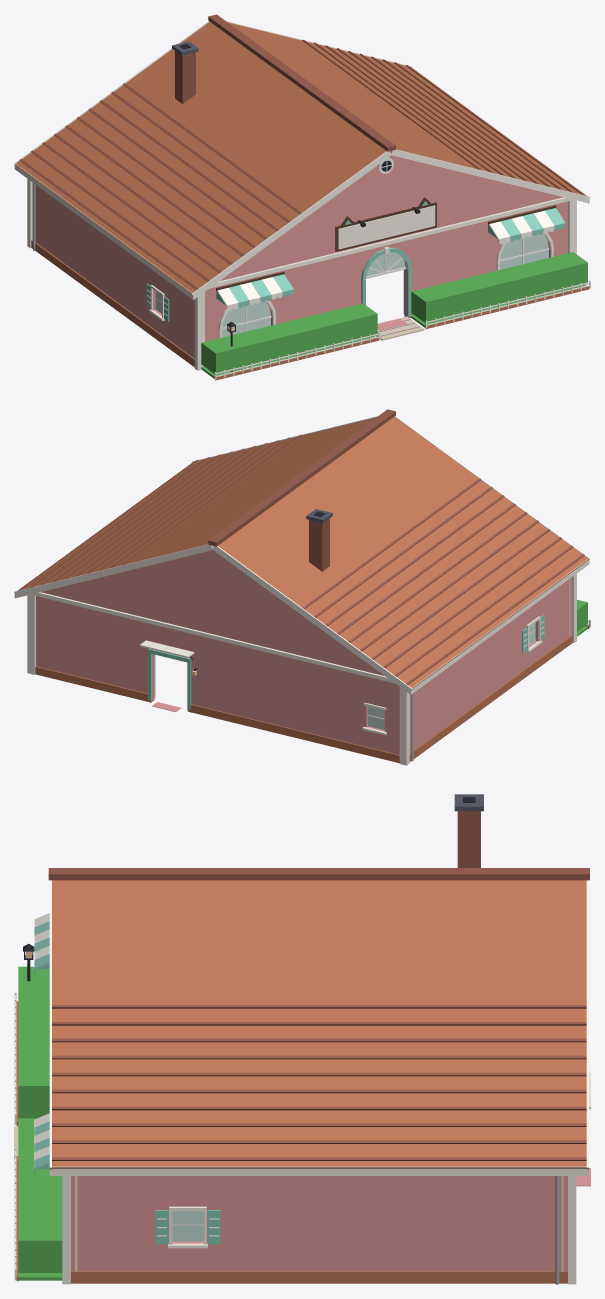
File: CatCafe_Plot_Cafe_Blush_60x46.glb
3 renders of one model, top to bottom at view 1: azimuth 30°, elevation 25°; view 2: azimuth 150°, elevation 25°; view 3: azimuth 270°, elevation 25°, orthographic. The views are drawn at different scales.
Parts seen in each view (by area): view 1: CatCafe_Plot_Cafe_Blush_60x46_Roof, CatCafe_Plot_Cafe_Blush_60x46_Paint, CatCafe_Plot_Cafe_Blush_60x46_Fireflies, CatCafe_Plot_Cafe_Blush_60x46_Trim, CatCafe_Plot_Cafe_Blush_60x46_Roof_Trim, CatCafe_Plot_Cafe_Blush_60x46_Awning, CatCafe_Plot_Cafe_Blush_60x46, CatCafe_Plot_Cafe_Blush_60x46_Glass, CatCafe_Plot_Cafe_Blush_60x46_Garden, CatCafe_Plot_Cafe_Blush_60x46_SignBoard, CatCafe_Plot_Cafe_Blush_60x46_Flowers, CatCafe_Plot_Cafe_Blush_60x46_Path; view 2: CatCafe_Plot_Cafe_Blush_60x46_Roof, CatCafe_Plot_Cafe_Blush_60x46_Paint, CatCafe_Plot_Cafe_Blush_60x46_Trim, CatCafe_Plot_Cafe_Blush_60x46_Roof_Trim, CatCafe_Plot_Cafe_Blush_60x46; view 3: CatCafe_Plot_Cafe_Blush_60x46_Roof, CatCafe_Plot_Cafe_Blush_60x46_Paint, CatCafe_Plot_Cafe_Blush_60x46_Fireflies, CatCafe_Plot_Cafe_Blush_60x46, CatCafe_Plot_Cafe_Blush_60x46_Roof_Trim, CatCafe_Plot_Cafe_Blush_60x46_Trim, CatCafe_Plot_Cafe_Blush_60x46_Awning, CatCafe_Plot_Cafe_Blush_60x46_Garden, CatCafe_Plot_Cafe_Blush_60x46_Glass.
Part boxes in pixels (left/top/right/bottom): CatCafe_Plot_Cafe_Blush_60x46_Roof: left=15, top=14, right=586, bottom=293; CatCafe_Plot_Cafe_Blush_60x46_Paint: left=32, top=155, right=568, bottom=358; CatCafe_Plot_Cafe_Blush_60x46_Fireflies: left=201, top=252, right=587, bottom=374; CatCafe_Plot_Cafe_Blush_60x46_Trim: left=27, top=157, right=576, bottom=370; CatCafe_Plot_Cafe_Blush_60x46_Roof_Trim: left=14, top=21, right=590, bottom=299; CatCafe_Plot_Cafe_Blush_60x46_Awning: left=216, top=208, right=565, bottom=310; CatCafe_Plot_Cafe_Blush_60x46: left=31, top=160, right=549, bottom=366; CatCafe_Plot_Cafe_Blush_60x46_Glass: left=155, top=233, right=548, bottom=337; CatCafe_Plot_Cafe_Blush_60x46_Garden: left=214, top=280, right=590, bottom=380; CatCafe_Plot_Cafe_Blush_60x46_SignBoard: left=338, top=205, right=435, bottom=249; CatCafe_Plot_Cafe_Blush_60x46_Flowers: left=201, top=285, right=585, bottom=378; CatCafe_Plot_Cafe_Blush_60x46_Path: left=376, top=316, right=424, bottom=340; CatCafe_Plot_Cafe_Blush_60x46_Roof: left=17, top=409, right=588, bottom=688; CatCafe_Plot_Cafe_Blush_60x46_Paint: left=36, top=550, right=571, bottom=754; CatCafe_Plot_Cafe_Blush_60x46_Trim: left=27, top=573, right=576, bottom=765; CatCafe_Plot_Cafe_Blush_60x46_Roof_Trim: left=14, top=416, right=589, bottom=694; CatCafe_Plot_Cafe_Blush_60x46: left=35, top=615, right=572, bottom=763; CatCafe_Plot_Cafe_Blush_60x46_Roof: left=48, top=794, right=589, bottom=1168; CatCafe_Plot_Cafe_Blush_60x46_Paint: left=71, top=1176, right=567, bottom=1271; CatCafe_Plot_Cafe_Blush_60x46_Fireflies: left=18, top=966, right=62, bottom=1272; CatCafe_Plot_Cafe_Blush_60x46: left=71, top=1168, right=590, bottom=1284; CatCafe_Plot_Cafe_Blush_60x46_Roof_Trim: left=49, top=880, right=588, bottom=1175; CatCafe_Plot_Cafe_Blush_60x46_Trim: left=62, top=1071, right=590, bottom=1284; CatCafe_Plot_Cafe_Blush_60x46_Awning: left=34, top=913, right=49, bottom=1174; CatCafe_Plot_Cafe_Blush_60x46_Garden: left=14, top=943, right=34, bottom=1281; CatCafe_Plot_Cafe_Blush_60x46_Glass: left=172, top=1211, right=203, bottom=1241.
Size of the model in its own units: 65.86 by 31 by 54.8.
1 material, 1 textured.
